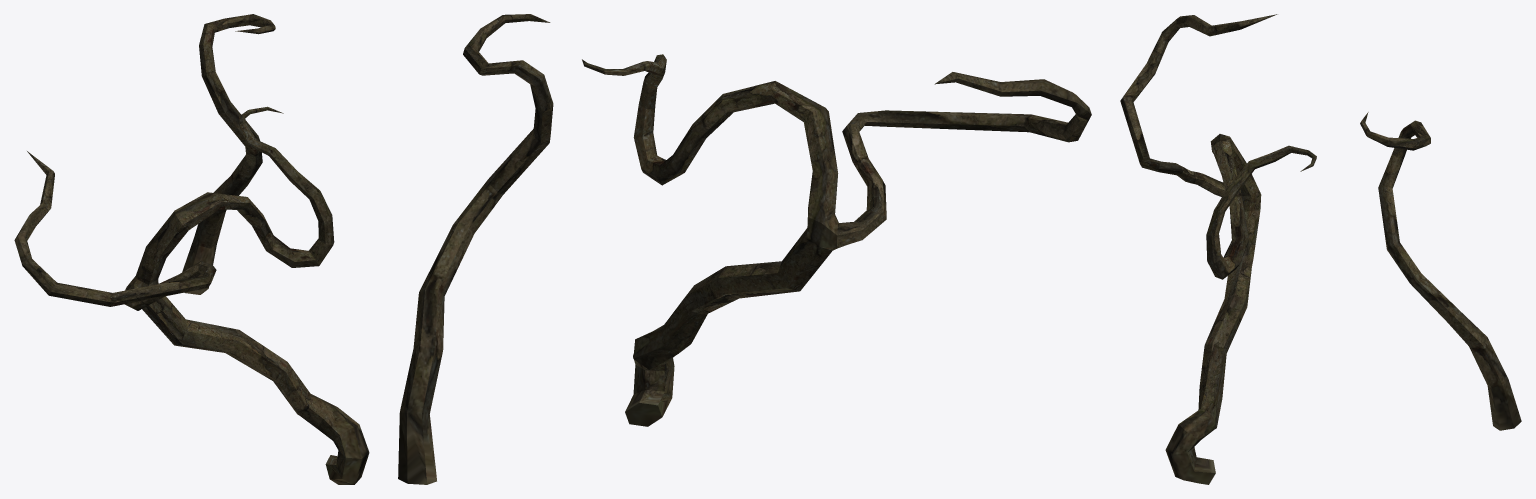
File: Stage_4.fbx
3 renders of one model, left to right at view 1: azimuth 30°, elevation 25°; view 2: azimuth 150°, elevation 25°; view 3: azimuth 270°, elevation 25°, orthographic. The views are drawn at different scales.
Visible parts, largest first — view 1: Stage4; view 2: Stage4; view 3: Stage4.
Boxes of the visible parts, x1,y1,x2,y2 form: Stage4: [14, 14, 369, 484]; Stage4: [398, 14, 1091, 484]; Stage4: [1120, 14, 1521, 484].
Size of the model in its own units: 345 by 340 by 338.
